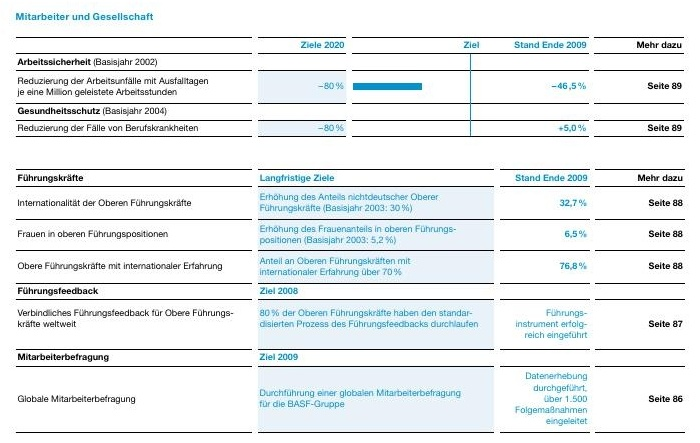table: (0, 0, 700, 443)
